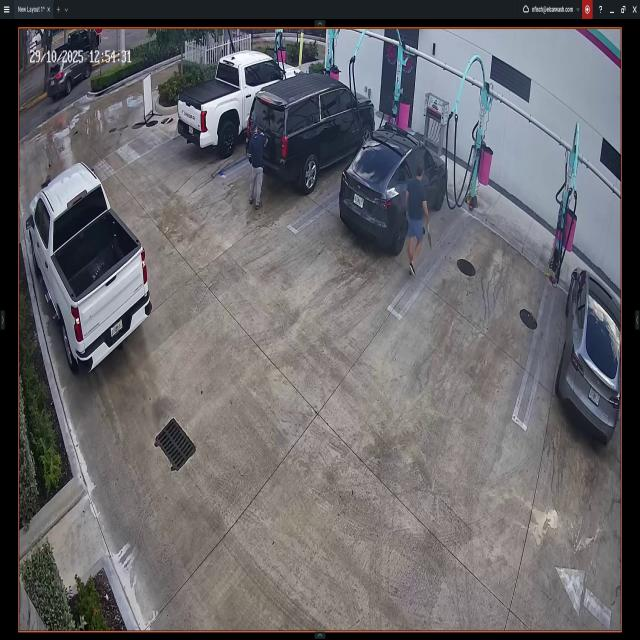Car: (27, 161, 152, 375), (248, 74, 374, 185), (342, 127, 448, 253), (178, 52, 302, 152), (557, 267, 620, 443), (48, 56, 92, 94)
